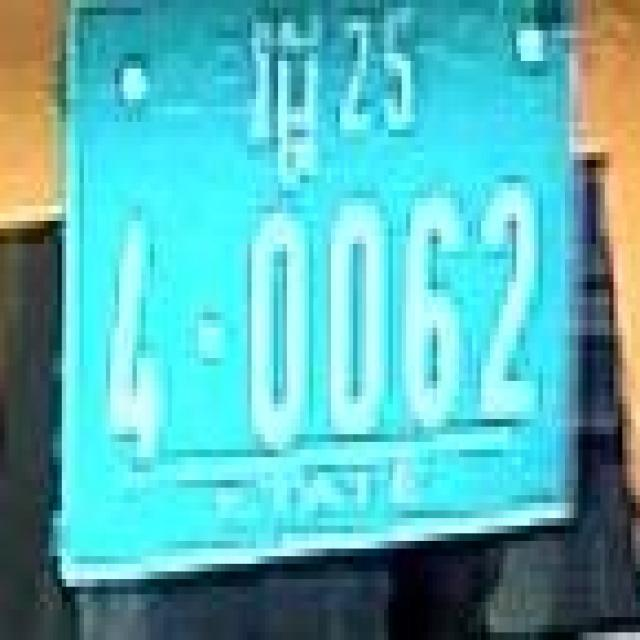State: (252, 8, 326, 188)
